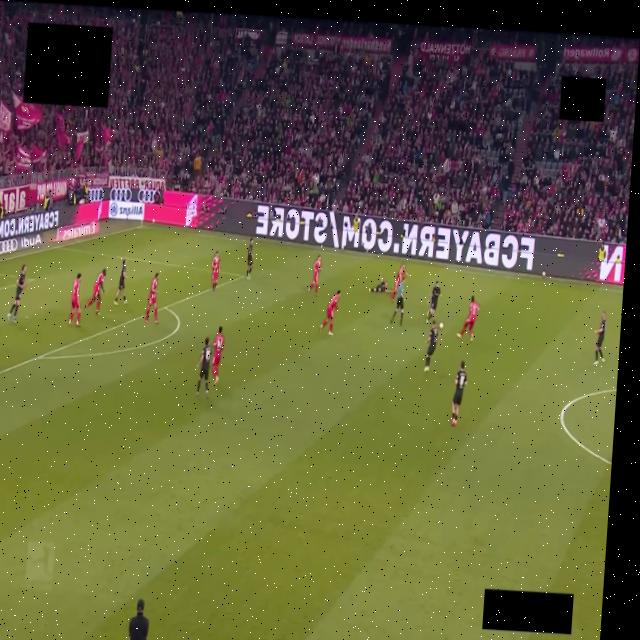ball: (439, 323, 442, 329)
player: (7, 265, 25, 323), (451, 361, 466, 426), (456, 296, 478, 340), (84, 269, 105, 315), (319, 290, 340, 335), (196, 337, 211, 397), (424, 322, 438, 372), (211, 326, 223, 384), (144, 273, 157, 323), (593, 312, 605, 365), (425, 282, 440, 322), (113, 259, 126, 304), (69, 274, 80, 326), (308, 256, 321, 295), (391, 265, 405, 299), (369, 273, 386, 293), (211, 252, 219, 292), (246, 239, 252, 279)
referee: (390, 276, 404, 326)
